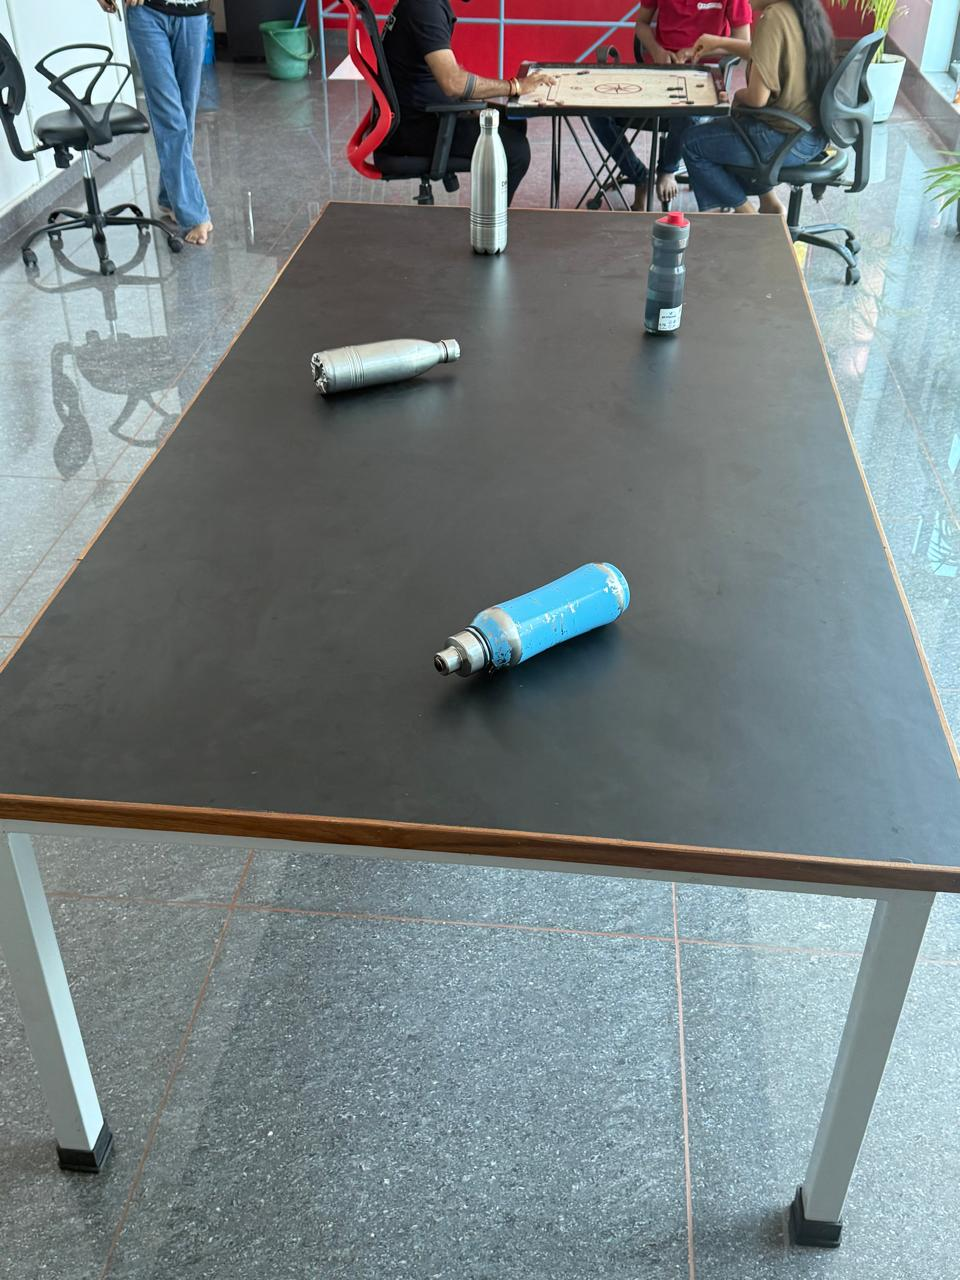bottle_on_table: (410, 541, 637, 719), (442, 106, 551, 271), (618, 183, 709, 380), (295, 321, 472, 400)
